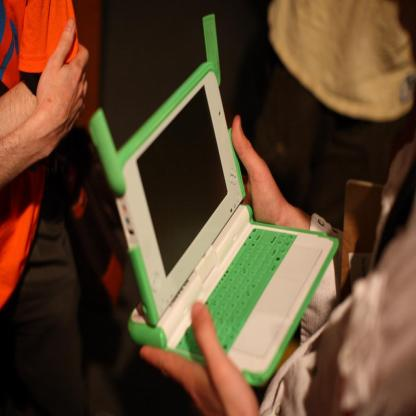board: (89, 14, 338, 385)
